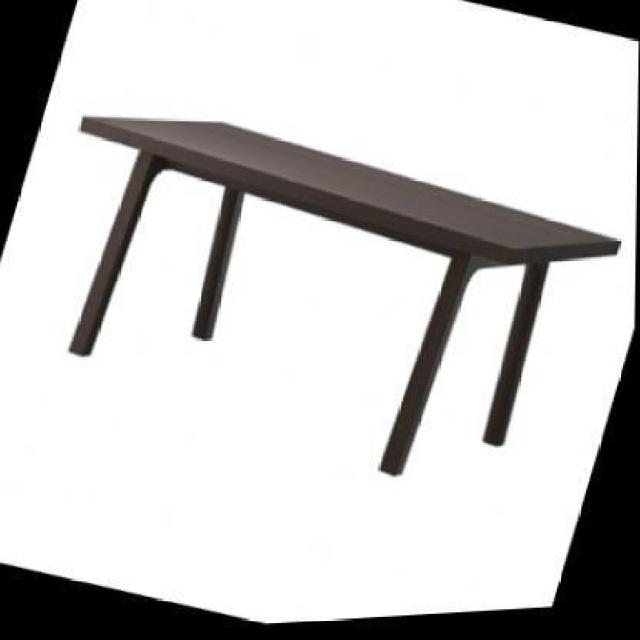tables: (66, 111, 620, 475)
